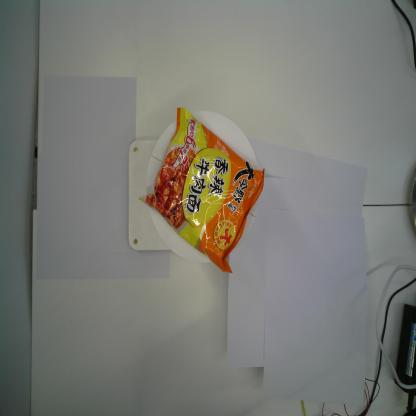Instant Noodles: (139, 103, 268, 277)
